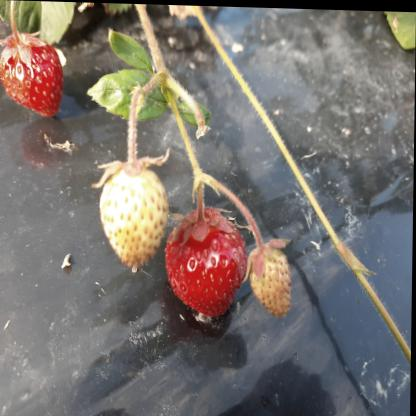ripe: (168, 207, 246, 321), (1, 34, 68, 118)
unripe: (103, 163, 167, 267), (256, 241, 295, 313)
